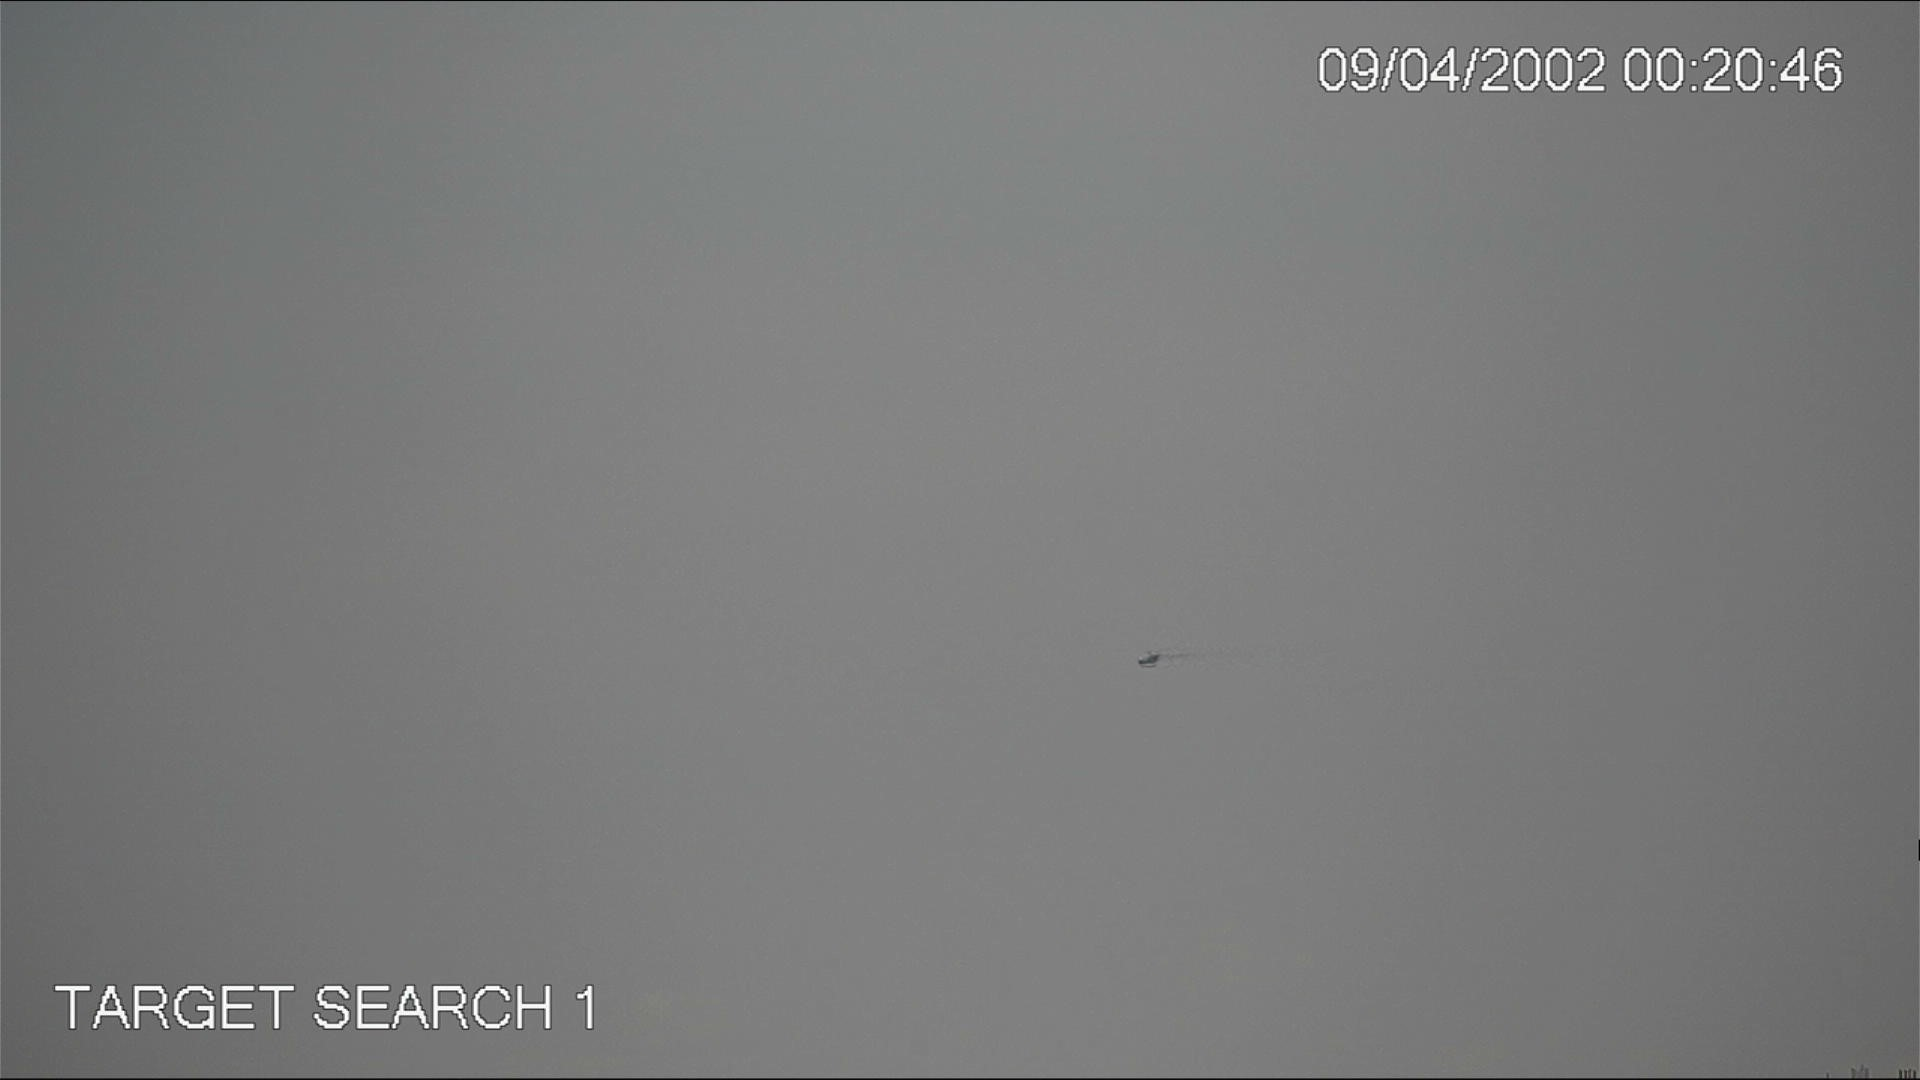SU_30: (1135, 653, 1158, 669)
